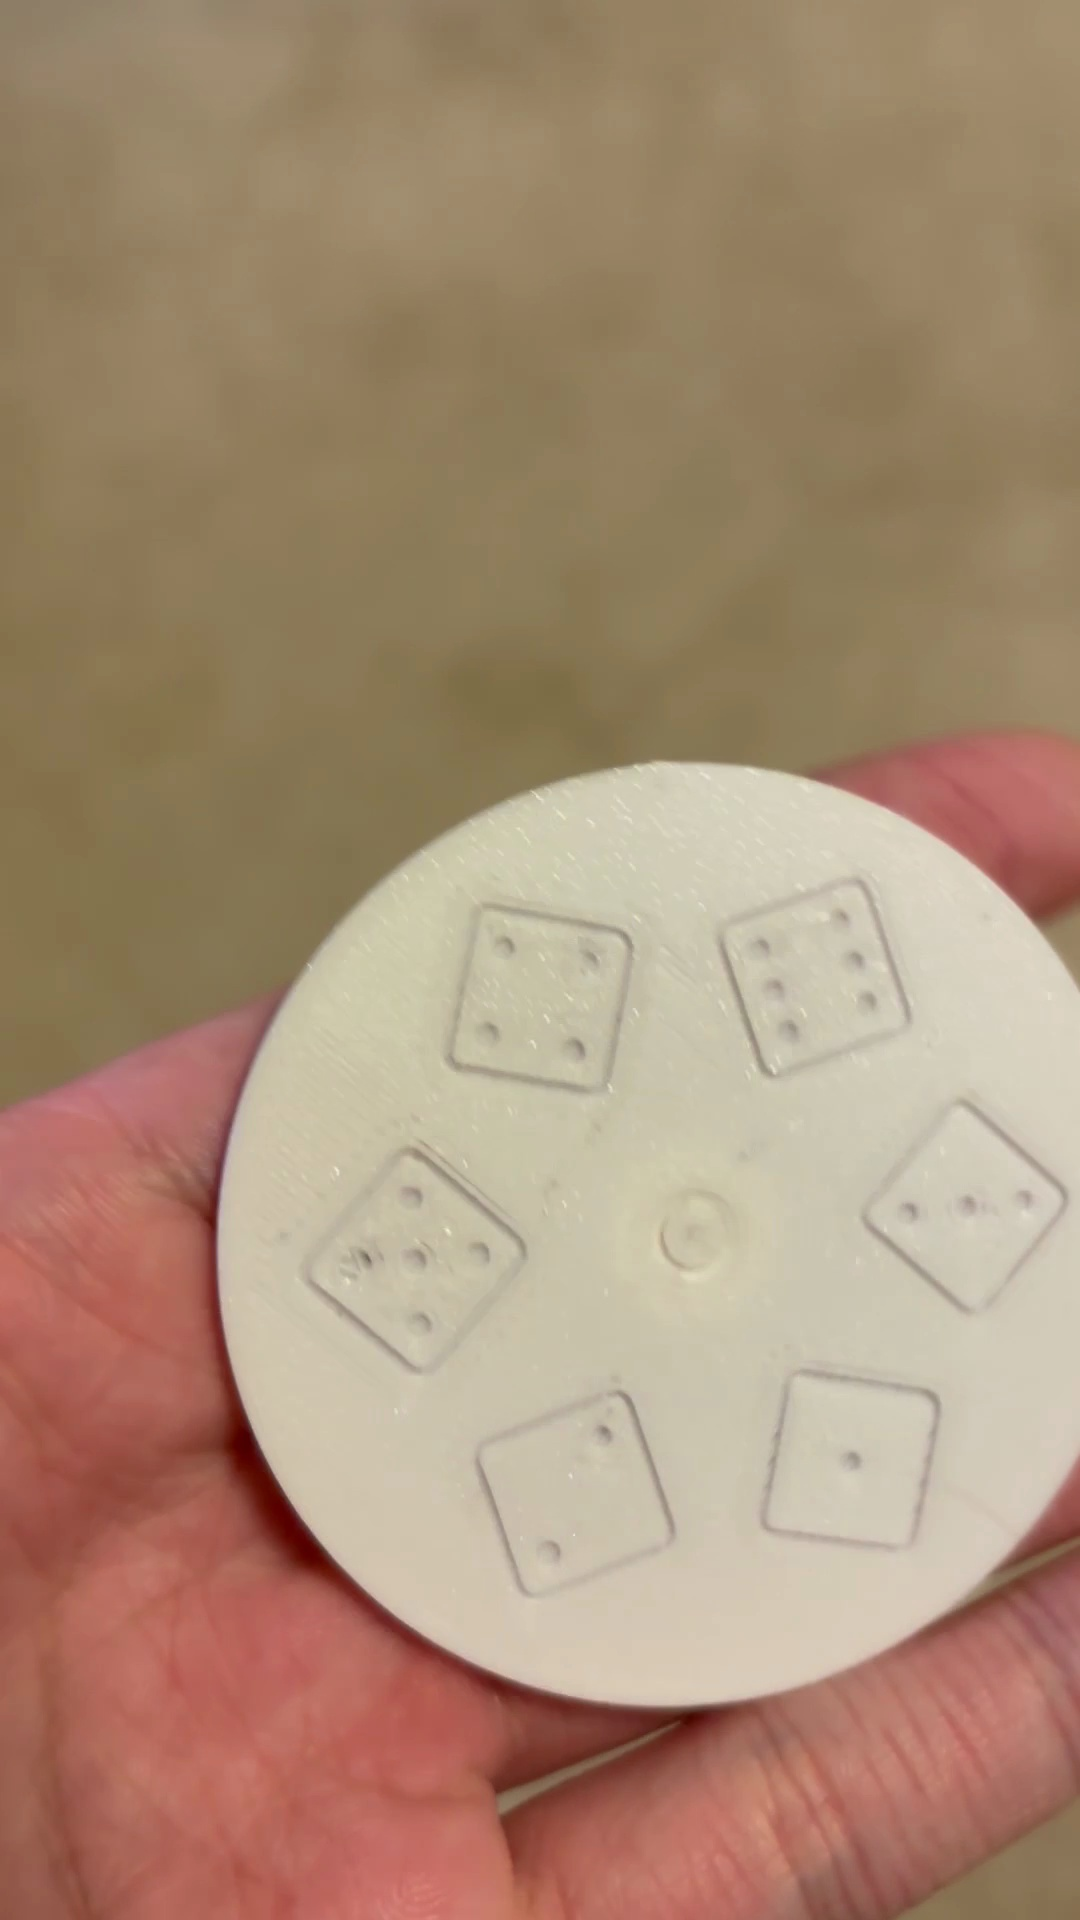Part1: (218, 764, 1079, 1710)
